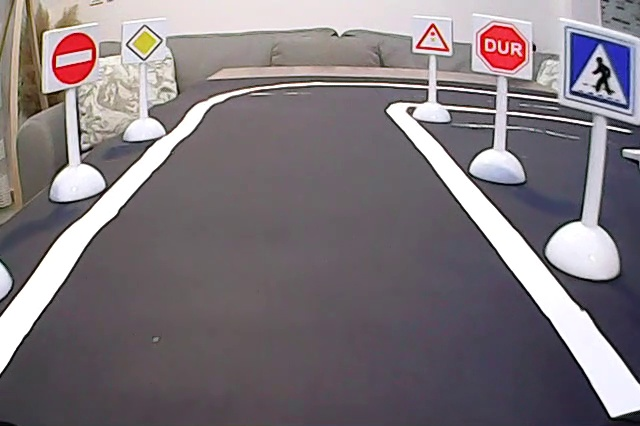do not enter: (47, 33, 103, 86)
pedestrian crossing: (563, 25, 638, 115)
red light: (414, 17, 454, 54)
stop sign: (472, 16, 536, 78)
